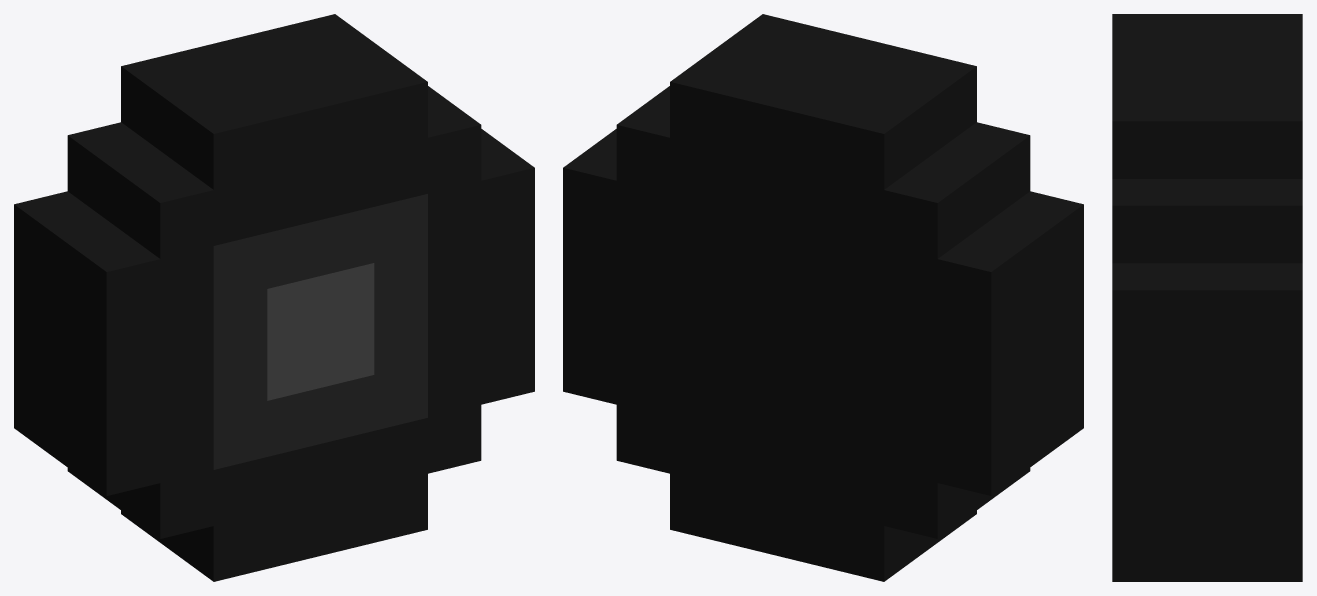
Rendered from wheel.glb.
The picture shows the model from 3 angles, left to right: view 1: azimuth 30°, elevation 25°; view 2: azimuth 150°, elevation 25°; view 3: azimuth 270°, elevation 25°; orthographic projection. The views are drawn at different scales.
Visible parts, largest first — view 1: Untitled; view 2: Untitled; view 3: Untitled.
Part boxes in pixels (x1,y1,x2,y2): Untitled: [14, 14, 534, 581]; Untitled: [563, 14, 1083, 581]; Untitled: [1112, 14, 1302, 581].
Bounding box in the file's own units: 0.8 × 0.8 × 0.3.
1 material, 1 textured.
